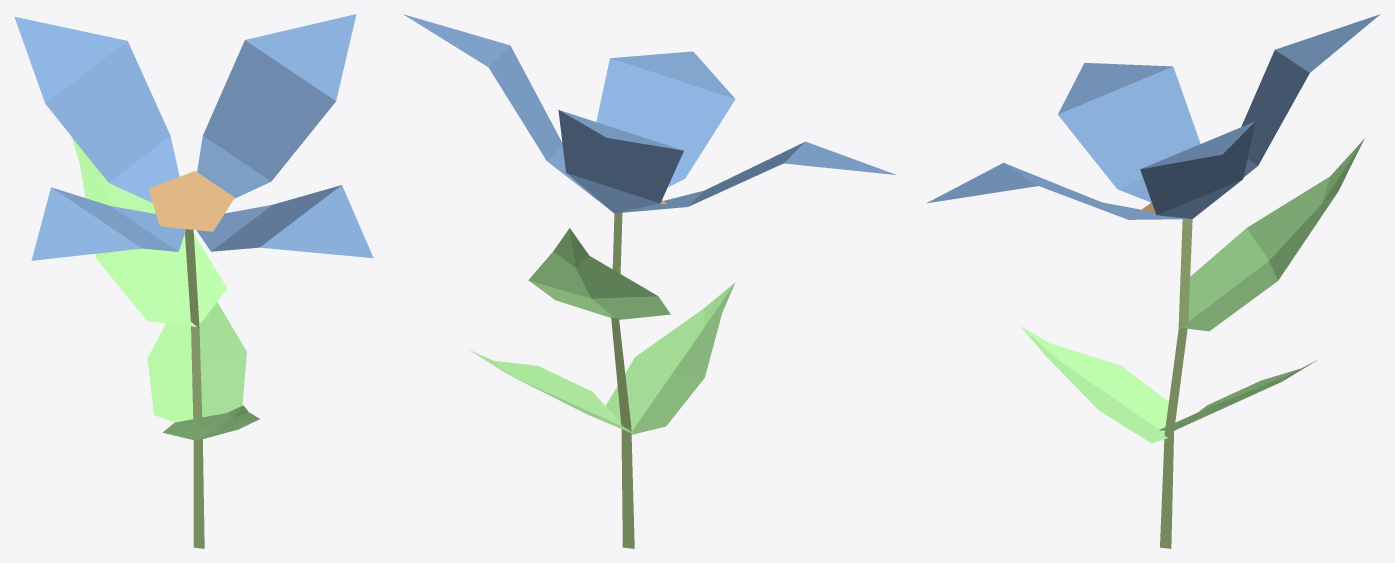
File: Flower_a_OneS_09.fbx
The picture shows the model from 3 angles, left to right: view 1: azimuth 30°, elevation 25°; view 2: azimuth 150°, elevation 25°; view 3: azimuth 270°, elevation 25°; orthographic projection. The views are drawn at different scales.
Parts seen in each view (by area): view 1: Flower_a_OneS_09; view 2: Flower_a_OneS_09; view 3: Flower_a_OneS_09.
Part boxes in pixels (x1,y1,x2,y2): Flower_a_OneS_09: (14,14,373,548); Flower_a_OneS_09: (403,14,896,548); Flower_a_OneS_09: (927,14,1380,548).
Bounding box in the file's own units: 54.42 × 63 × 52.87.
